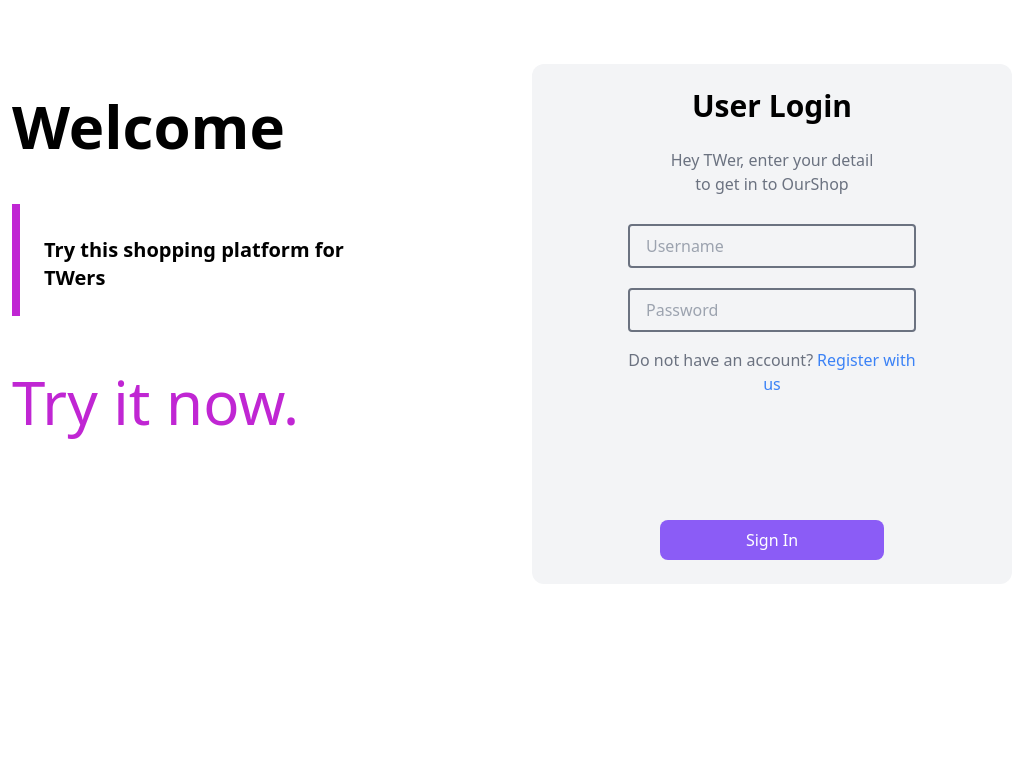
Test: display login page › should show error tips when username and password are missing
Click the button with test id "login-btn" at (772, 540), box [660, 520, 884, 560]
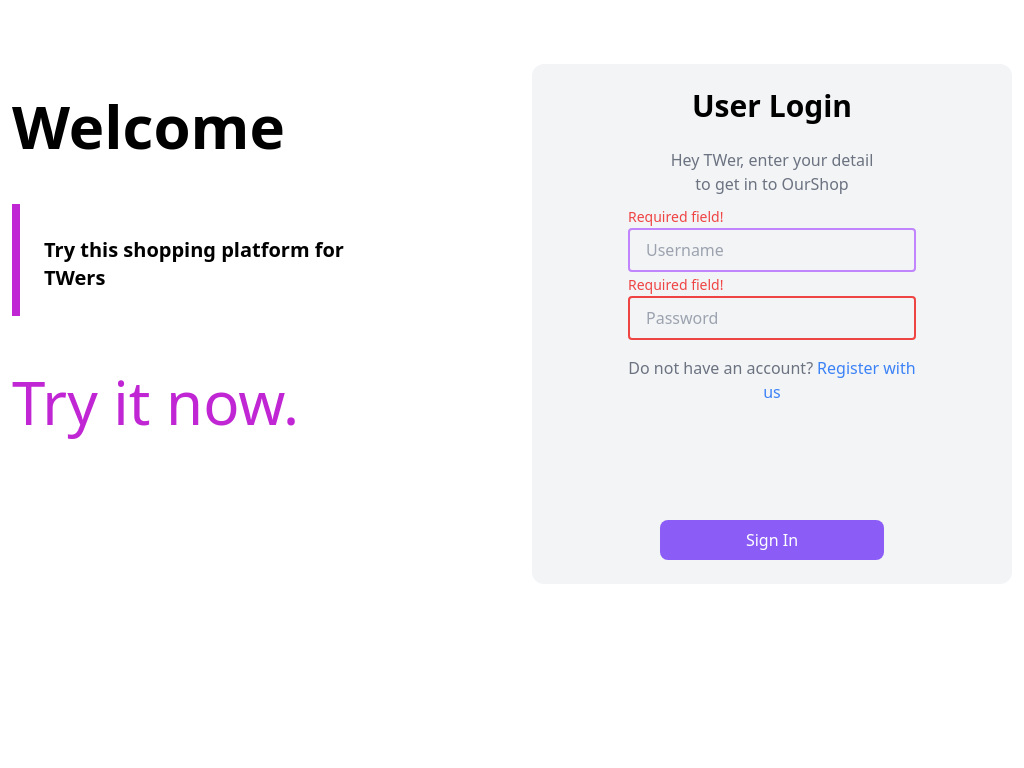
Result: the number of messages is 2 at [628, 207, 724, 226]; [628, 275, 724, 294]
